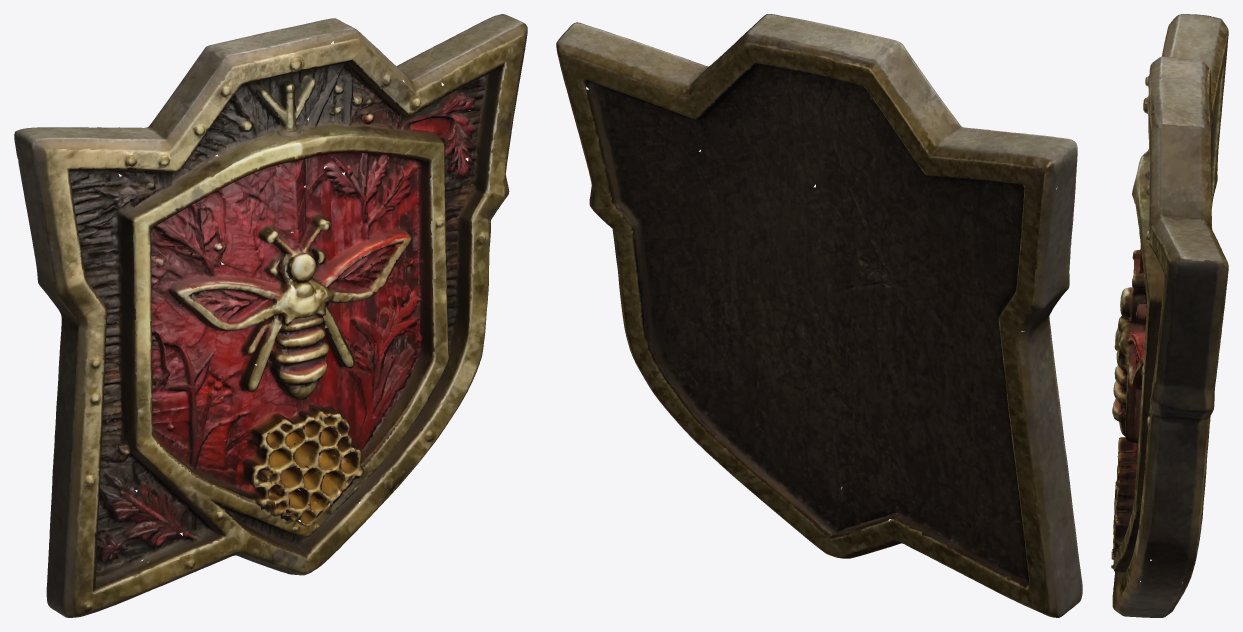
File: emblem.glb
3 views of the same model, side by side, from view 1: azimuth 30°, elevation 25°; view 2: azimuth 150°, elevation 25°; view 3: azimuth 270°, elevation 25° (orthographic). The views are drawn at different scales.
Parts seen in each view (by area): view 1: emblem; view 2: emblem; view 3: emblem.
Part boxes in pixels (<box>): emblem: <box>14,14,527,617</box>; emblem: <box>556,14,1082,617</box>; emblem: <box>1111,14,1228,617</box>.
Bounding box in the file's own units: 0.9744 × 0.9793 × 0.1969.
1 material, 1 textured.
